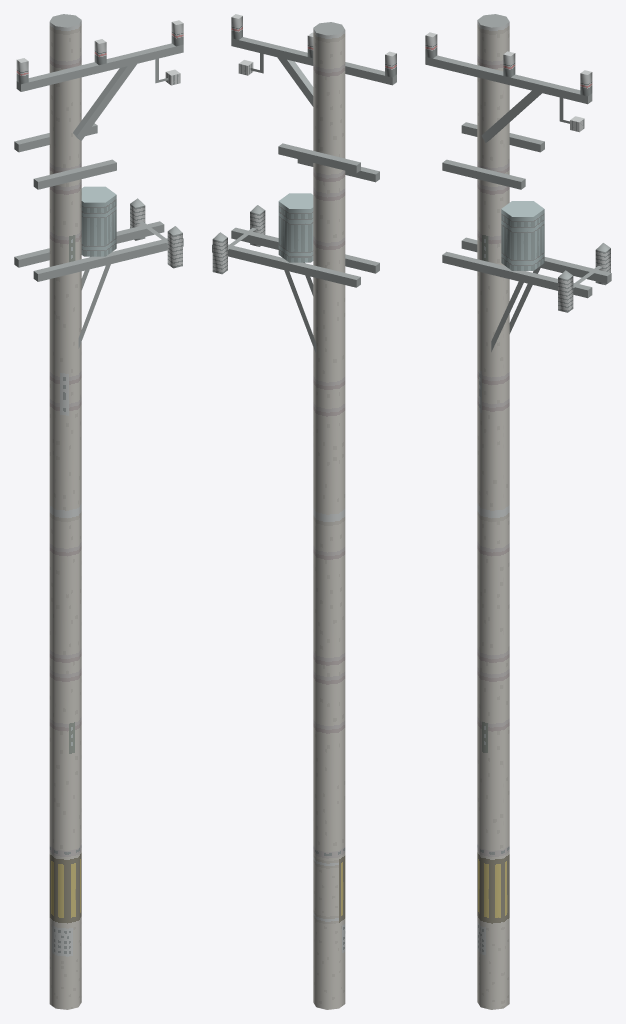
File: 00ff_Telephone_Pole.glb
3 renders of one model, left to right at view 1: azimuth 30°, elevation 25°; view 2: azimuth 150°, elevation 25°; view 3: azimuth 330°, elevation 25°, orthographic.
Parts seen in each view (by area): view 1: part_0; view 2: part_0; view 3: part_0.
Part boxes in pixels (box(x1,y1,x2,y2)): part_0: box(14, 14, 183, 1009); part_0: box(212, 14, 396, 1009); part_0: box(425, 14, 611, 1009).
Size of the model in its own units: 1.73 by 9.99 by 0.7982.
Materials: 1 (1 with a texture image).
